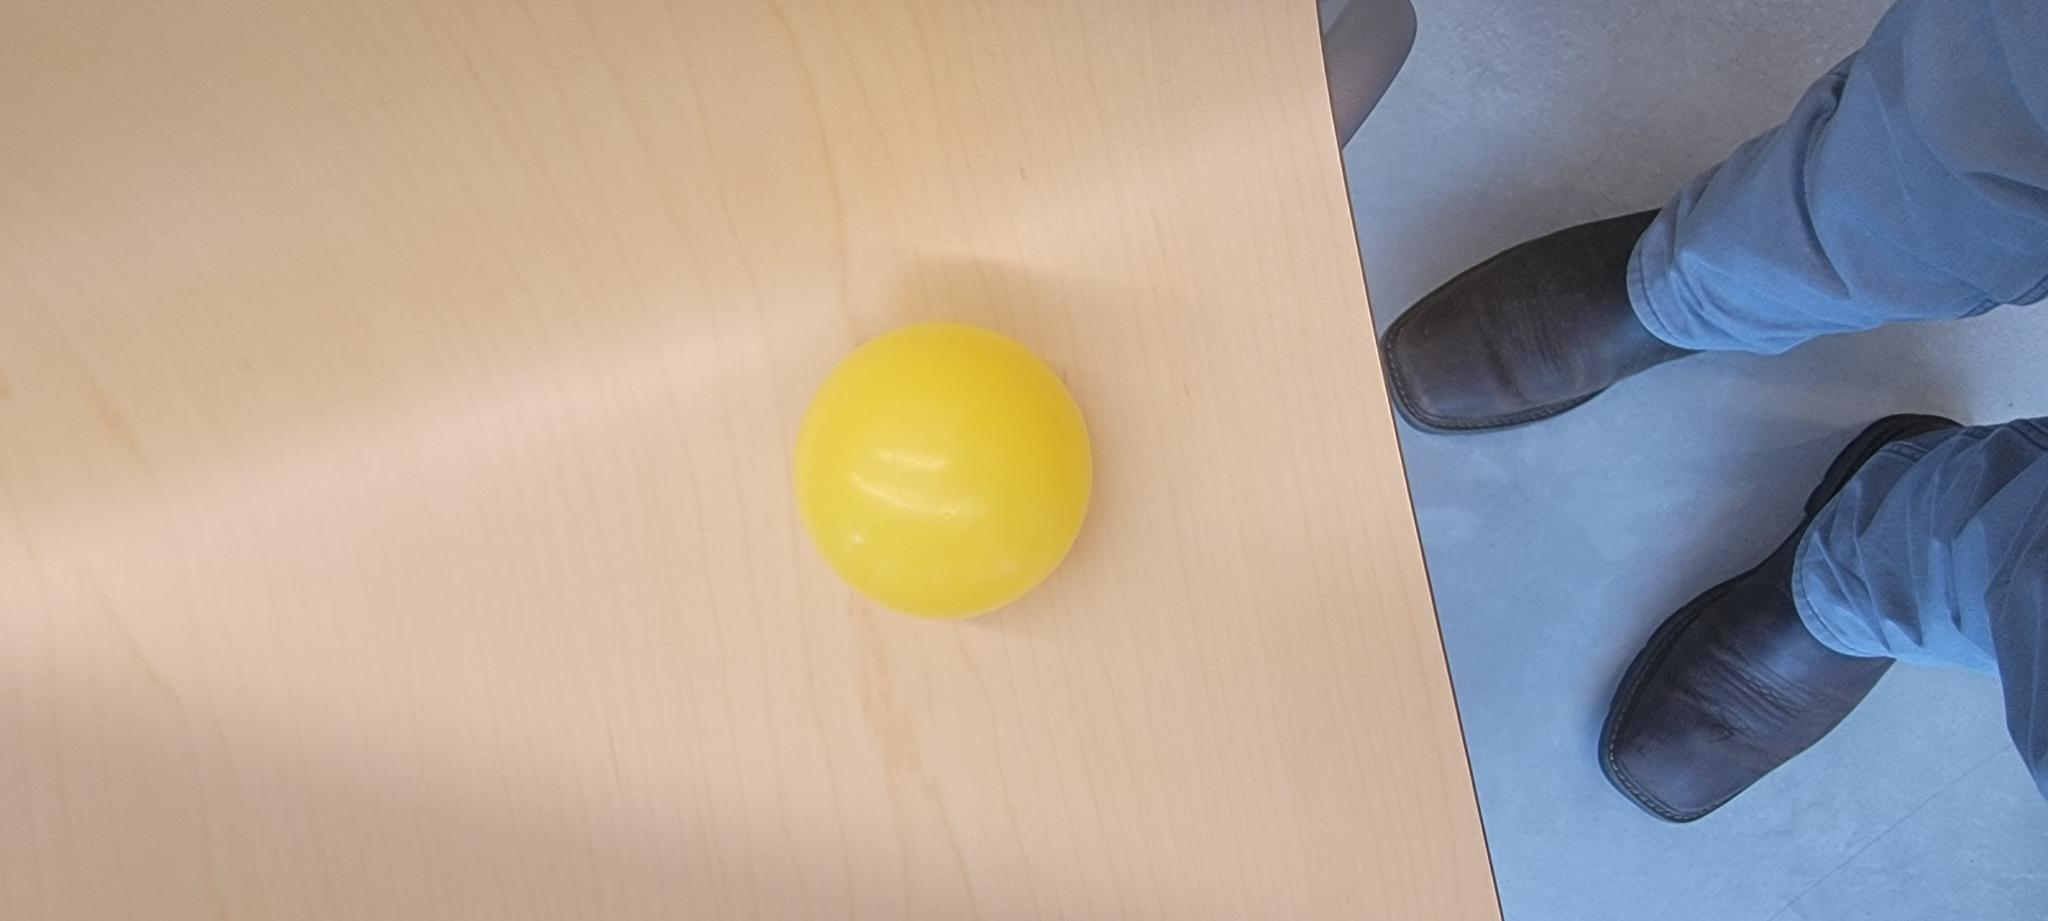Yellow-Ball: (302, 797, 603, 921)
